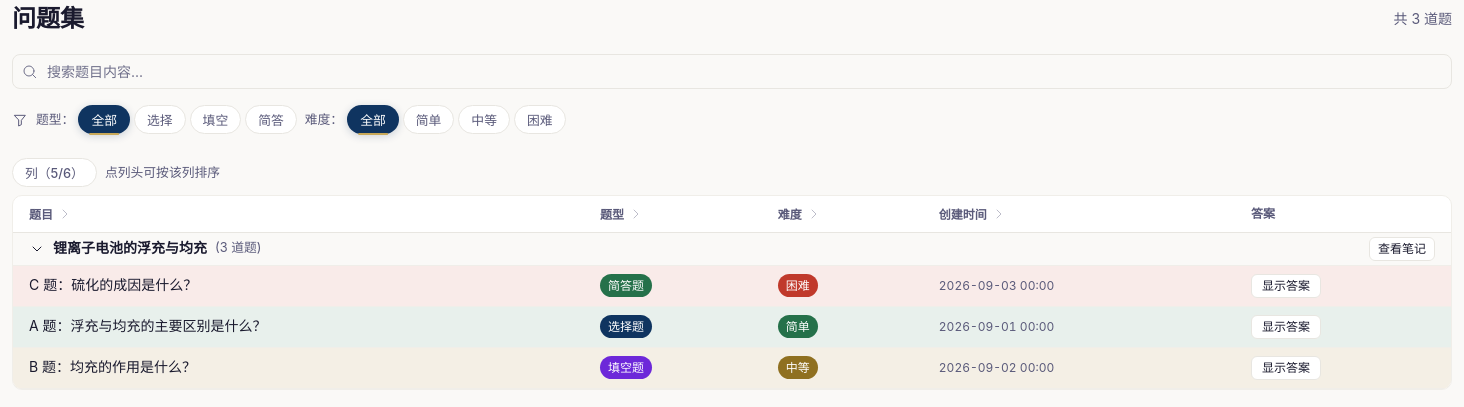
it: 问题集：答案仍然默认折叠（分组与遮挡语义不变） › 分组头仍是真控件（`aria-expanded` + 「查看笔记」），折叠后该组的题目行消失
Expected: the text "C 题：硫化的成因是什么？" is shown, [29,276,197,293]
Expected: the text "(3 道题)" is shown, [215,238,261,259]
Click the button "锂离子电池的浮充与均充" at x=118, y=249, box [29,237,207,260]
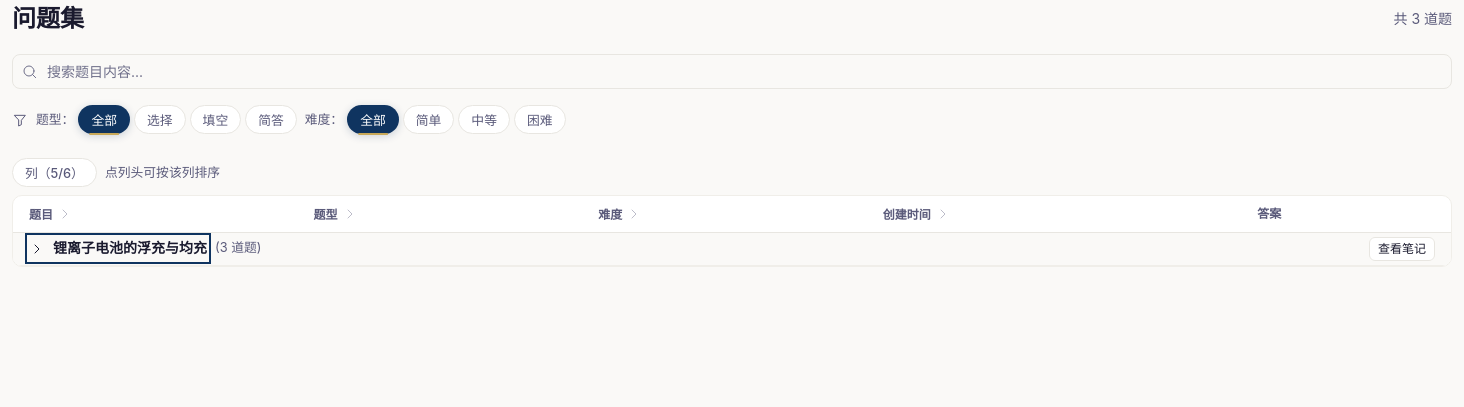
Now the button "锂离子电池的浮充与均充" is collapsed, box [29,237,207,260]
